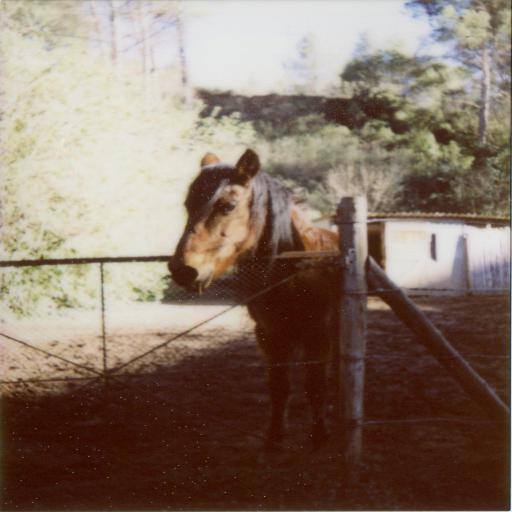horse: (171, 149, 347, 450)
